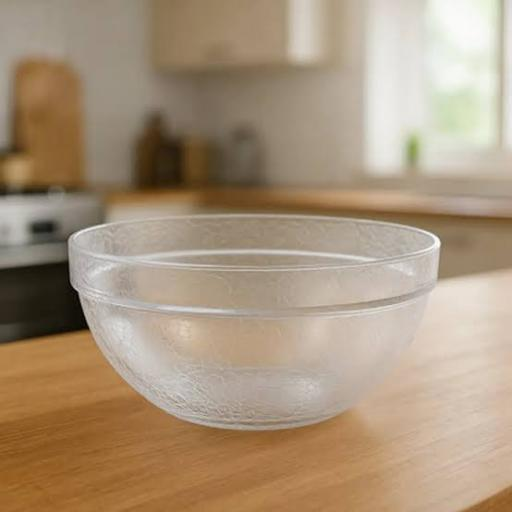Bowl: (70, 214, 440, 430)
